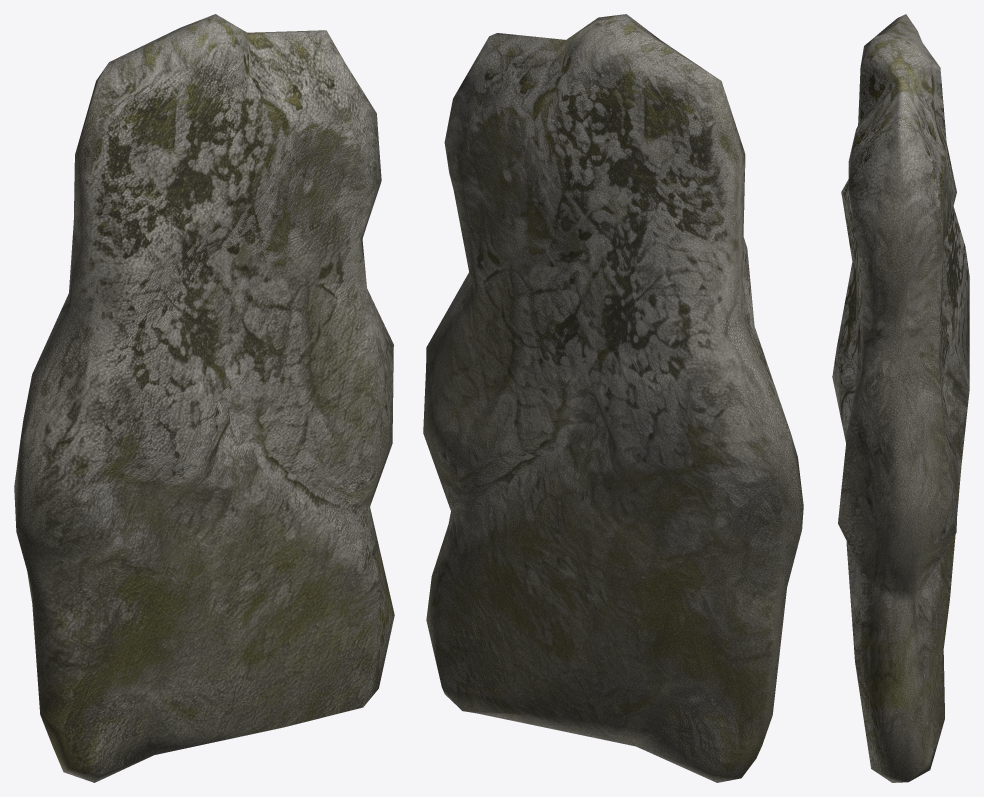
The model's file is pillar_weathered_sentinel.glb.
3 views of the same model, side by side, from view 1: azimuth 30°, elevation 25°; view 2: azimuth 150°, elevation 25°; view 3: azimuth 270°, elevation 25° (orthographic). The views are drawn at different scales.
Bounding box in the file's own units: 0.5391 × 1 × 0.1807.
Materials: 1 (1 with a texture image).
